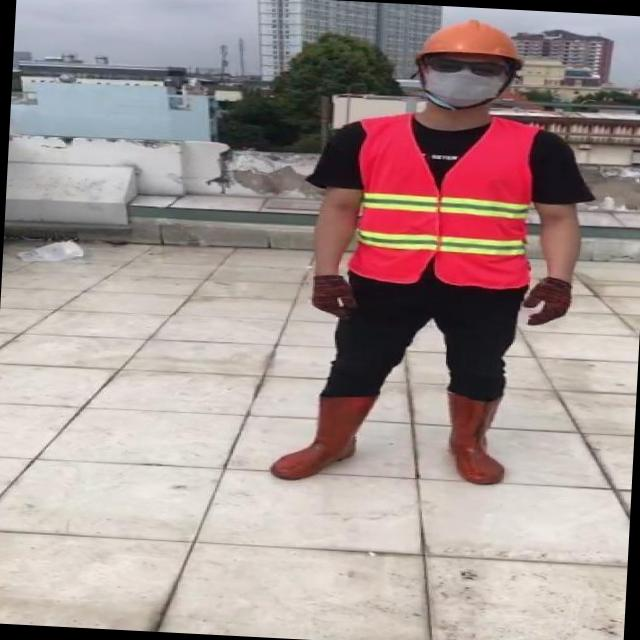hard_hat: (409, 14, 530, 68)
safety_vest: (346, 114, 536, 288)
vehicle: (263, 12, 605, 497)
work_boots: (269, 388, 377, 484), (439, 388, 508, 484)
